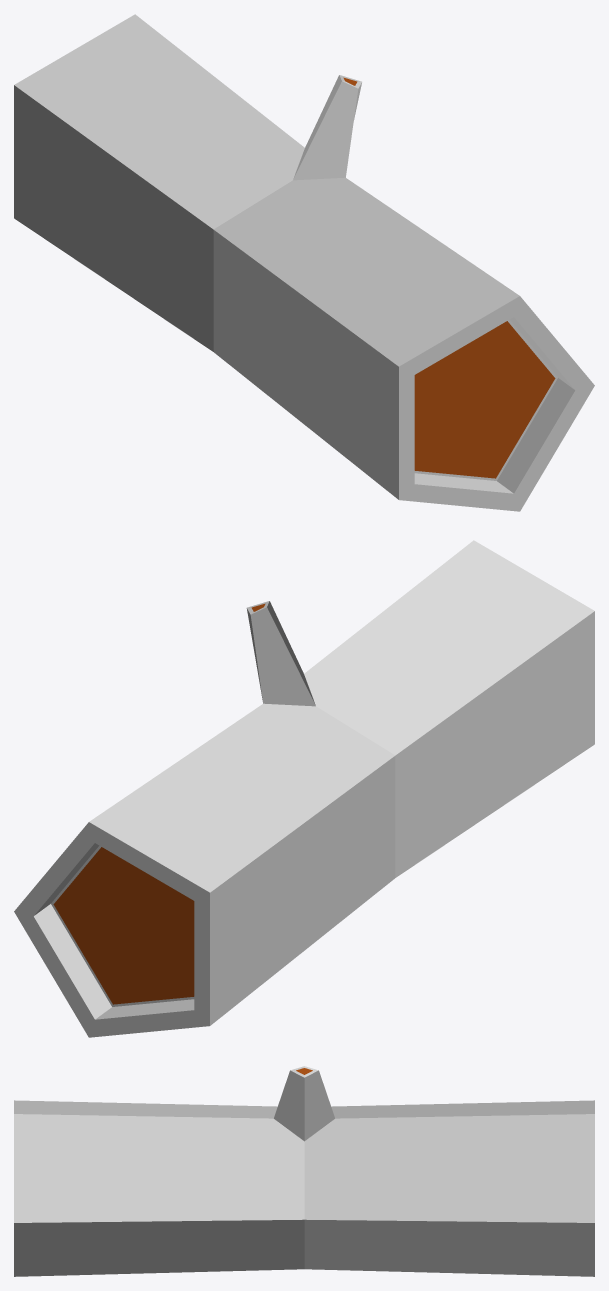
The model's file is Trunk2.FBX.
3 renders of one model, top to bottom at view 1: azimuth 30°, elevation 25°; view 2: azimuth 150°, elevation 25°; view 3: azimuth 270°, elevation 25°, orthographic. The views are drawn at different scales.
Visible parts, largest first — view 1: Tunk2_a, Trunk2_b; view 2: Tunk2_a, Trunk2_b; view 3: Tunk2_a.
Boxes of the visible parts, x1,y1,x2,y2 form: Tunk2_a: (14, 14, 594, 511); Trunk2_b: (343, 77, 555, 478); Tunk2_a: (14, 540, 594, 1037); Trunk2_b: (53, 603, 265, 1004); Tunk2_a: (14, 1066, 594, 1276).
Size of the model in its own units: 1584 by 2209 by 5384.
